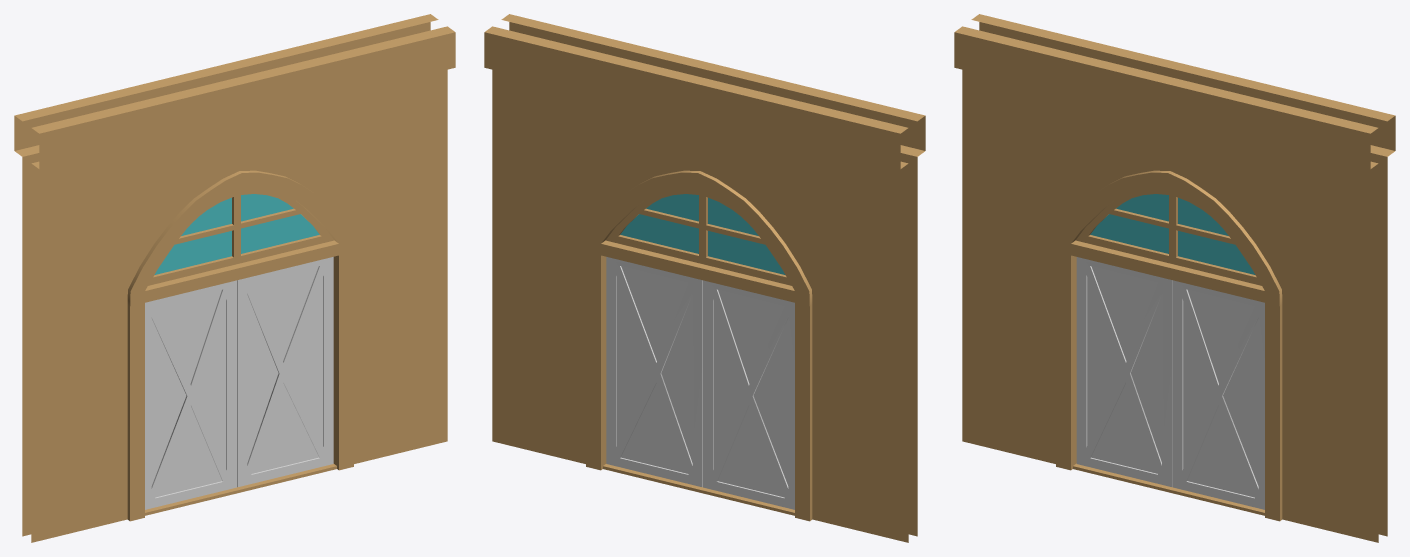
Rendered from Wall_Door.fbx.
The picture shows the model from 3 angles, left to right: view 1: azimuth 30°, elevation 25°; view 2: azimuth 150°, elevation 25°; view 3: azimuth 330°, elevation 25°; orthographic projection.
Visible parts, largest first — view 1: Wall_Door, Wall_DoorFrame, Door2, Door1; view 2: Wall_Door, Wall_DoorFrame, Door2, Door1; view 3: Wall_Door, Wall_DoorFrame, Door1, Door2.
Part boxes in pixels (box(x1,y1,x2,y2)): Wall_Door: box(14, 14, 455, 542); Wall_DoorFrame: box(127, 170, 353, 521); Door2: box(237, 257, 333, 487); Door1: box(145, 280, 236, 509); Wall_Door: box(484, 14, 925, 542); Wall_DoorFrame: box(586, 170, 812, 521); Door2: box(606, 257, 702, 487); Door1: box(703, 280, 794, 509); Wall_Door: box(954, 14, 1395, 542); Wall_DoorFrame: box(1056, 170, 1282, 521); Door1: box(1076, 257, 1172, 486); Door2: box(1172, 280, 1264, 509).
Size of the model in its own units: 6 by 5.72 by 0.621.
